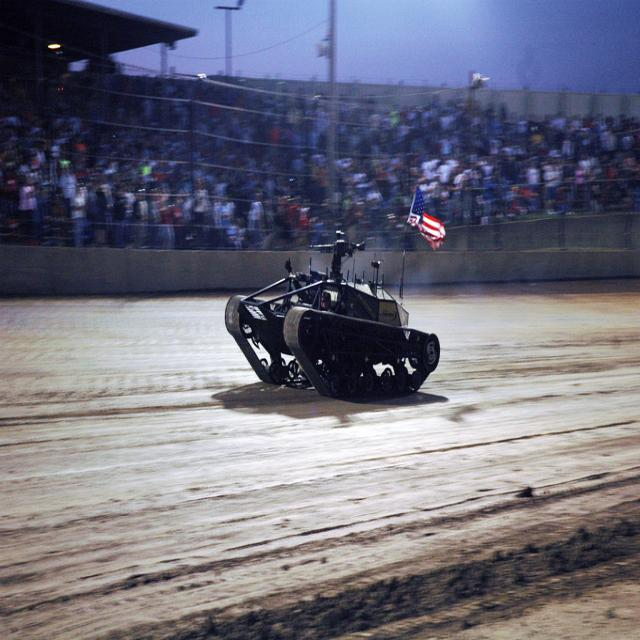tank: (220, 186, 449, 407)
